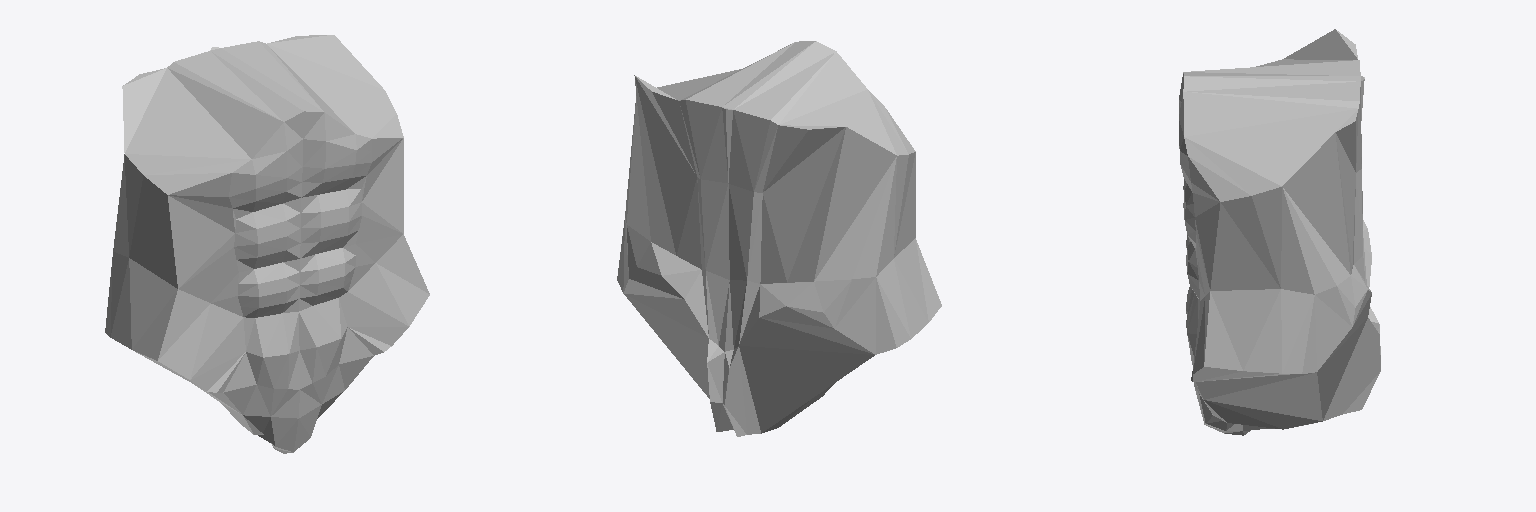
The model's file is torso.obj.
The picture shows the model from 3 angles: view 1: azimuth 30°, elevation 25°; view 2: azimuth 150°, elevation 25°; view 3: azimuth 270°, elevation 25°; orthographic projection.
Visible parts, largest first — view 1: cube1_cut11; view 2: cube1_cut11; view 3: cube1_cut11.
Boxes of the visible parts, box(x1,y1,x2,y2) form: cube1_cut11: box(105, 35, 429, 453); cube1_cut11: box(617, 41, 941, 436); cube1_cut11: box(1179, 29, 1380, 435).
Size of the model in its own units: 1.8 by 2.14 by 1.09.